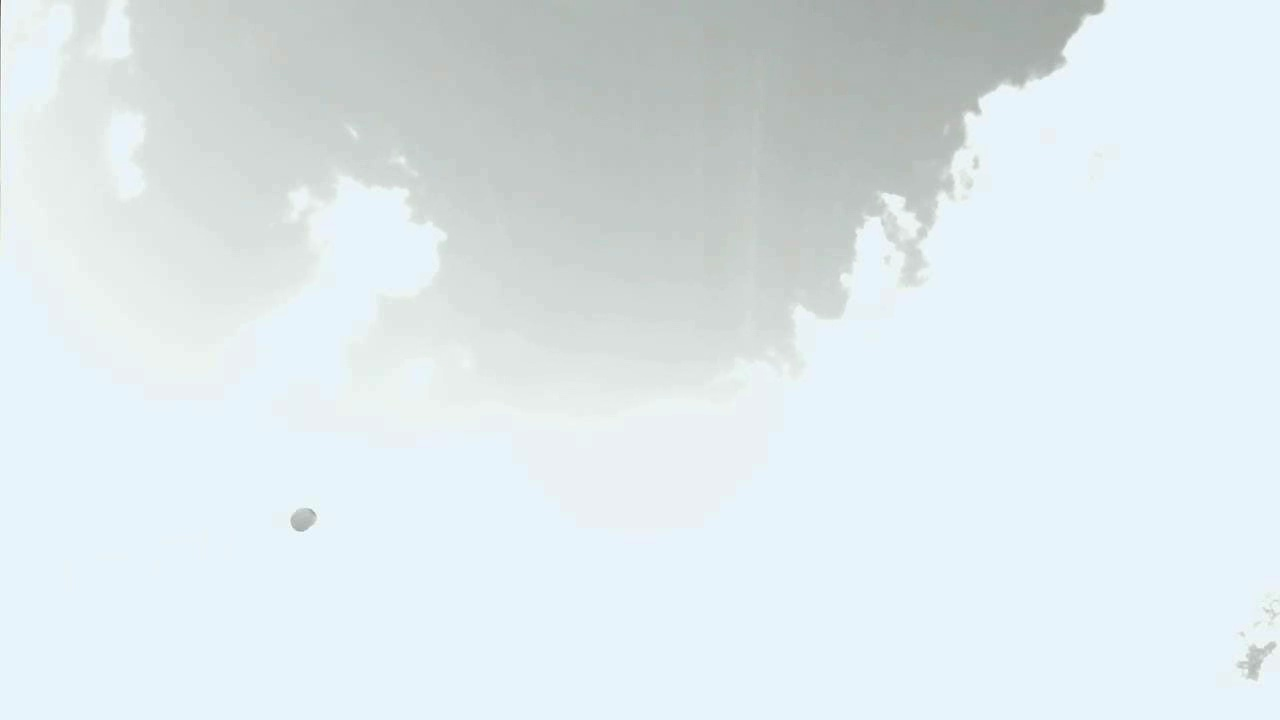Football-Spotter: (291, 508, 316, 531)
